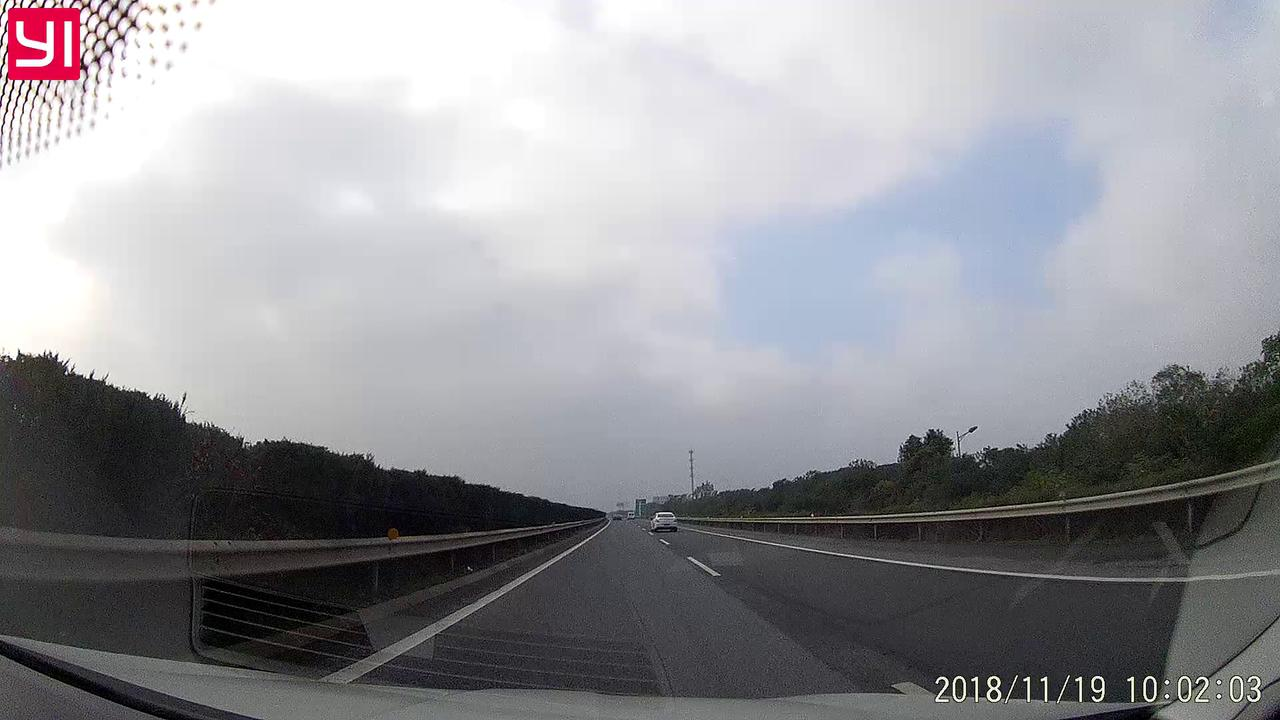car: (647, 511, 676, 531)
